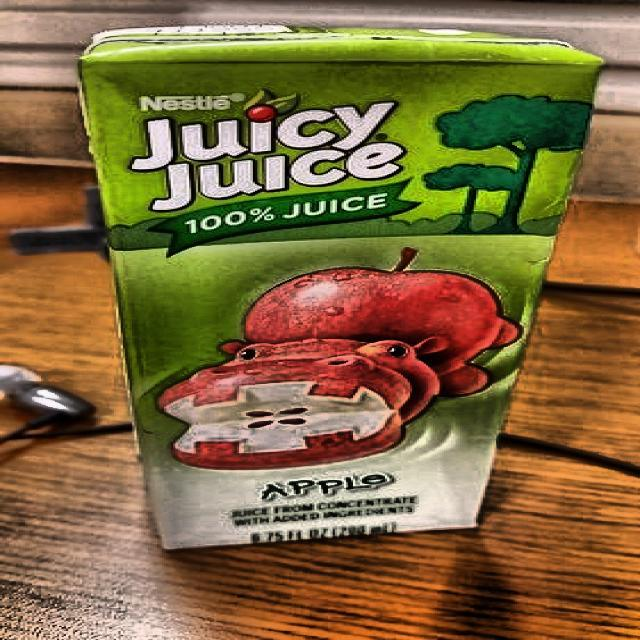cardboard: (72, 22, 604, 550)
